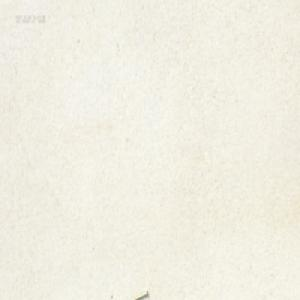Bolt: (131, 288, 149, 300)
